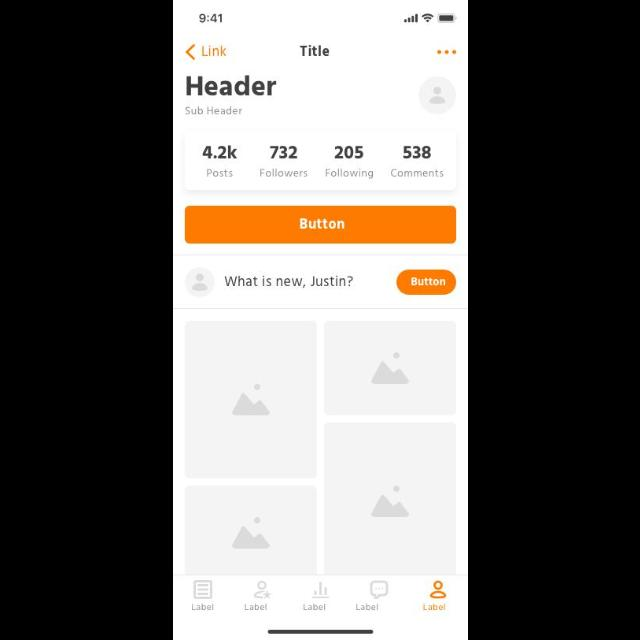icon: (418, 77, 456, 115), (186, 268, 214, 298), (428, 580, 446, 600), (370, 580, 388, 600), (310, 581, 330, 599), (252, 581, 272, 599), (194, 581, 212, 599), (186, 45, 197, 61), (436, 50, 456, 54)
image: (184, 322, 316, 478), (324, 423, 456, 575), (324, 321, 456, 415), (184, 486, 316, 574)
text: (186, 75, 276, 97), (223, 275, 353, 289), (185, 106, 243, 116), (325, 168, 373, 180), (390, 168, 444, 178), (202, 146, 238, 160), (260, 168, 308, 178), (334, 146, 364, 160), (402, 146, 432, 160), (270, 146, 298, 160), (300, 45, 328, 57), (202, 46, 228, 56), (206, 168, 232, 178), (422, 602, 446, 612), (356, 602, 378, 612), (303, 603, 327, 611), (192, 602, 214, 610), (244, 604, 268, 610)
textbutton: (186, 206, 457, 244), (396, 270, 456, 296)
uppertaskbar: (198, 14, 456, 24)
